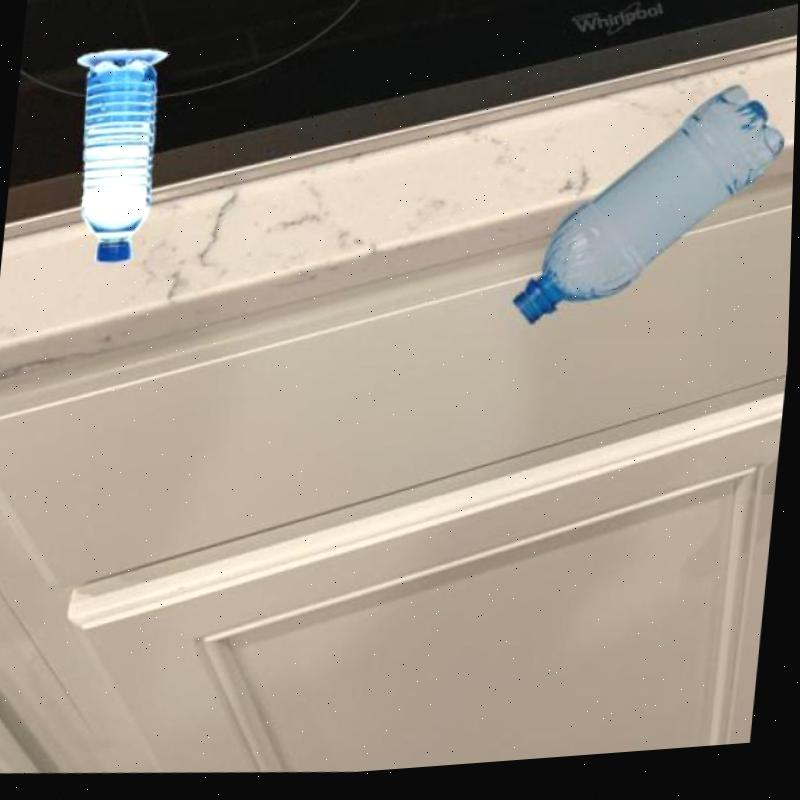botella: (513, 75, 797, 354), (54, 49, 172, 272)
